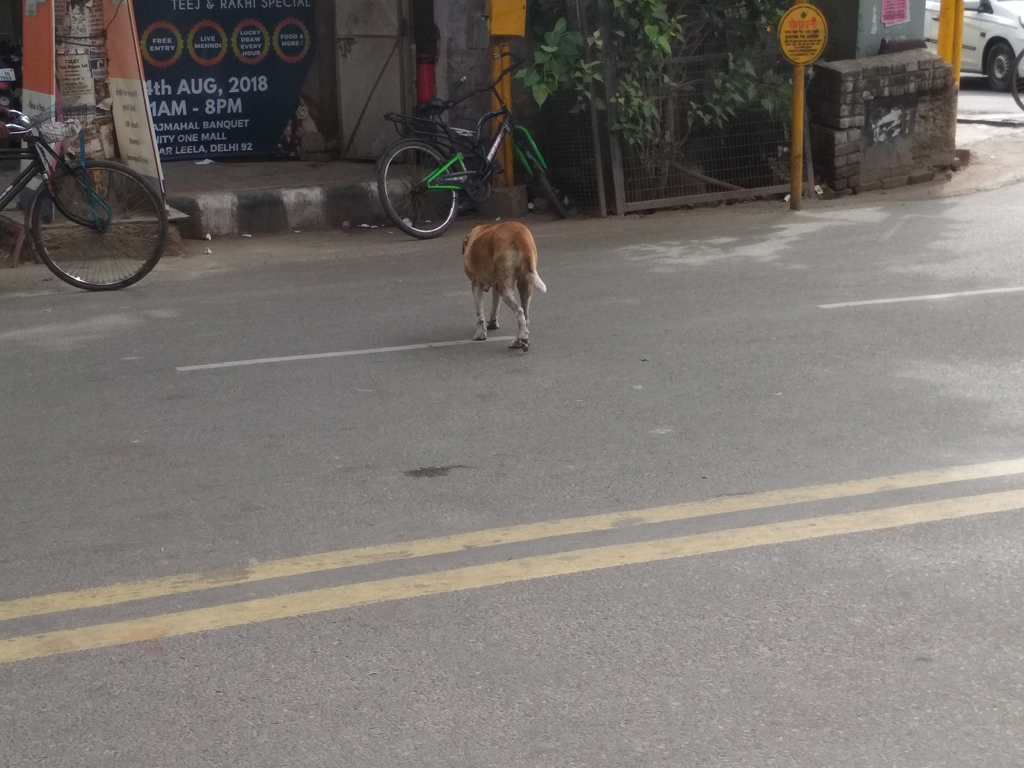dog: (462, 220, 547, 352)
